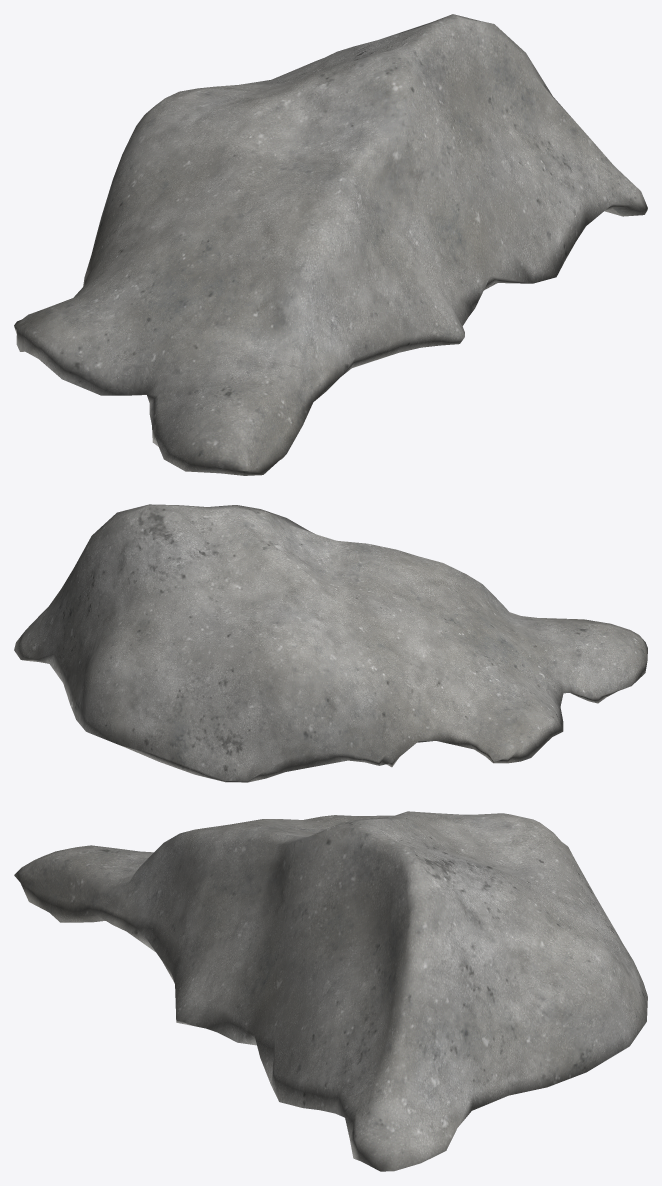
The model's file is rock1.fbx.
The picture shows the model from 3 angles, top to bottom: view 1: azimuth 30°, elevation 25°; view 2: azimuth 150°, elevation 25°; view 3: azimuth 270°, elevation 25°; orthographic projection. The views are drawn at different scales.
Visible parts, largest first — view 1: rock1; view 2: rock1; view 3: rock1.
Boxes of the visible parts, x1,y1,x2,y2 form: rock1: (14, 14, 647, 475); rock1: (14, 504, 647, 782); rock1: (14, 811, 647, 1171).
Size of the model in its own units: 1262 by 445 by 1084.
Materials: 1 (1 with a texture image).
